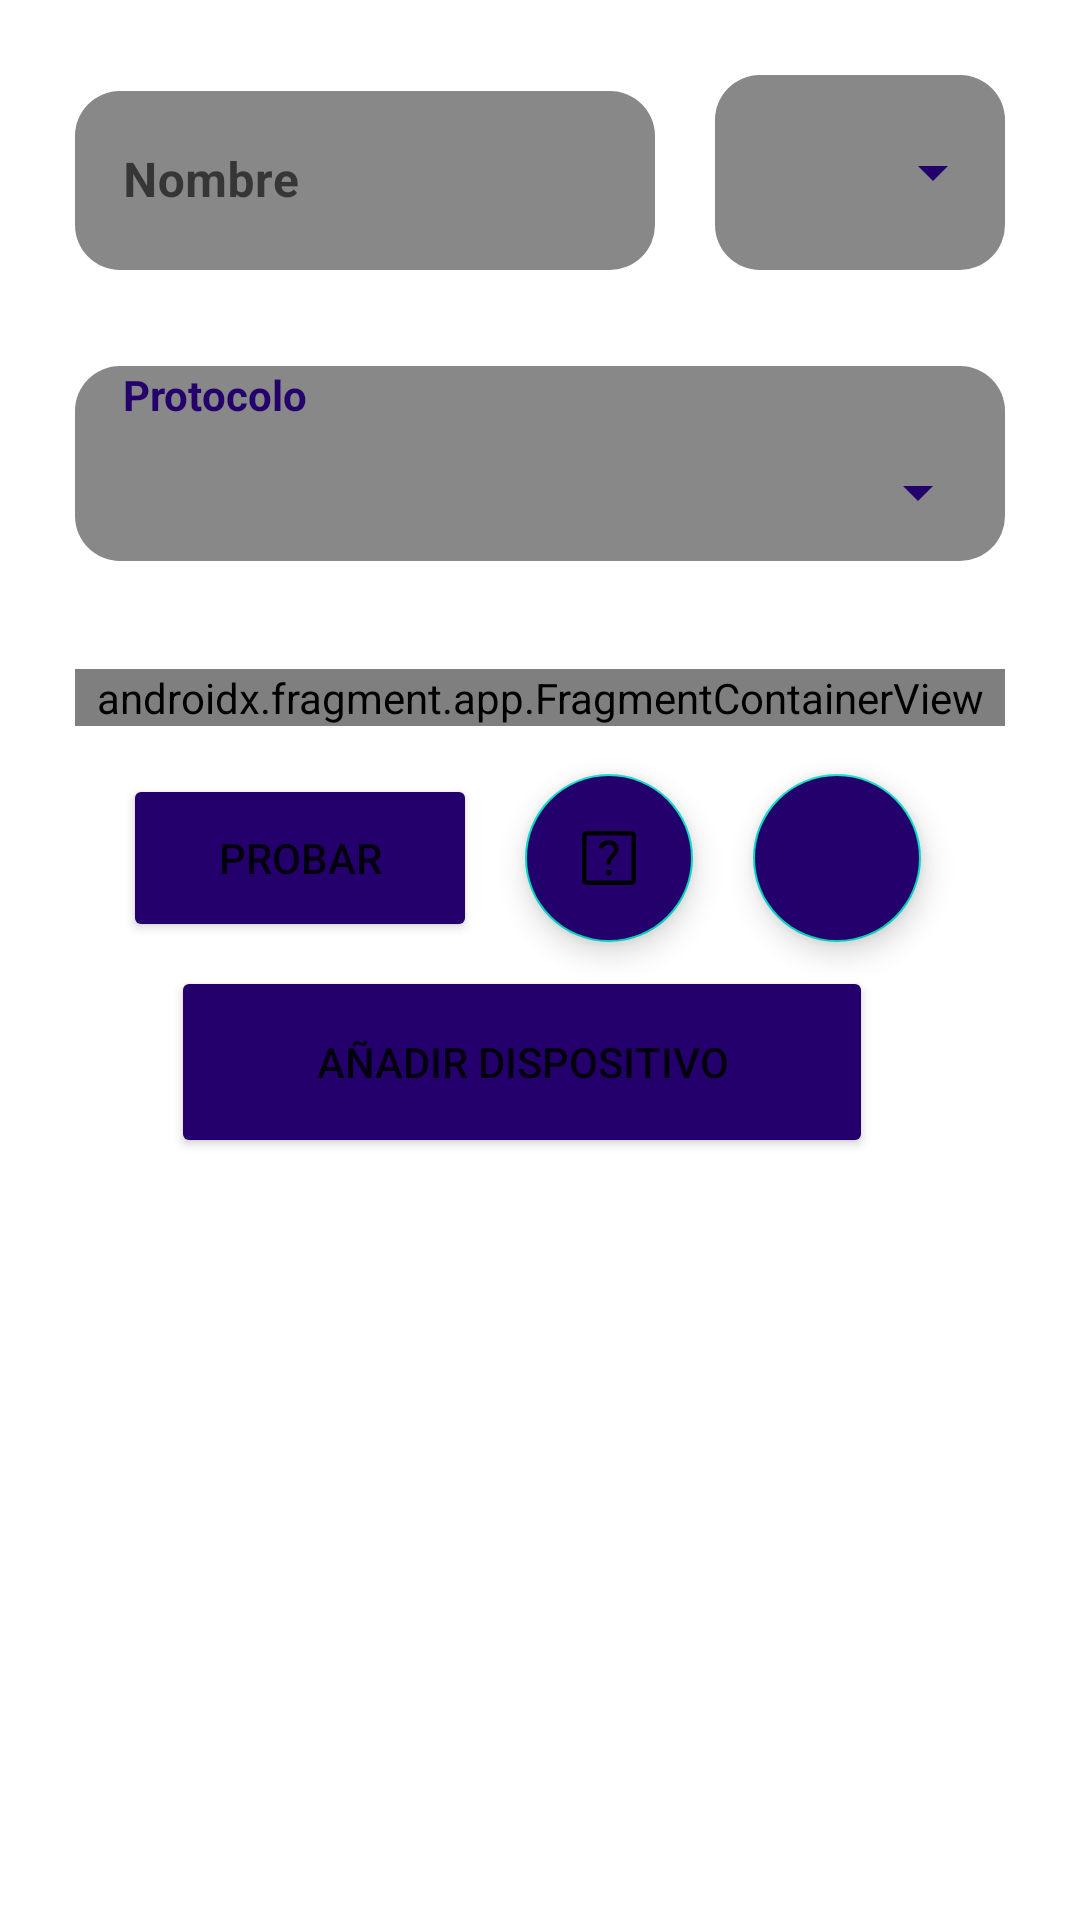

Icons on this 1080px x 1920px Android screen, each with its box as BBox(x1, y1, x2, y2):
Ayuda: BBox(525, 774, 693, 942)
